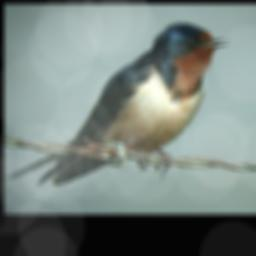Swallow: (4, 22, 230, 186)
